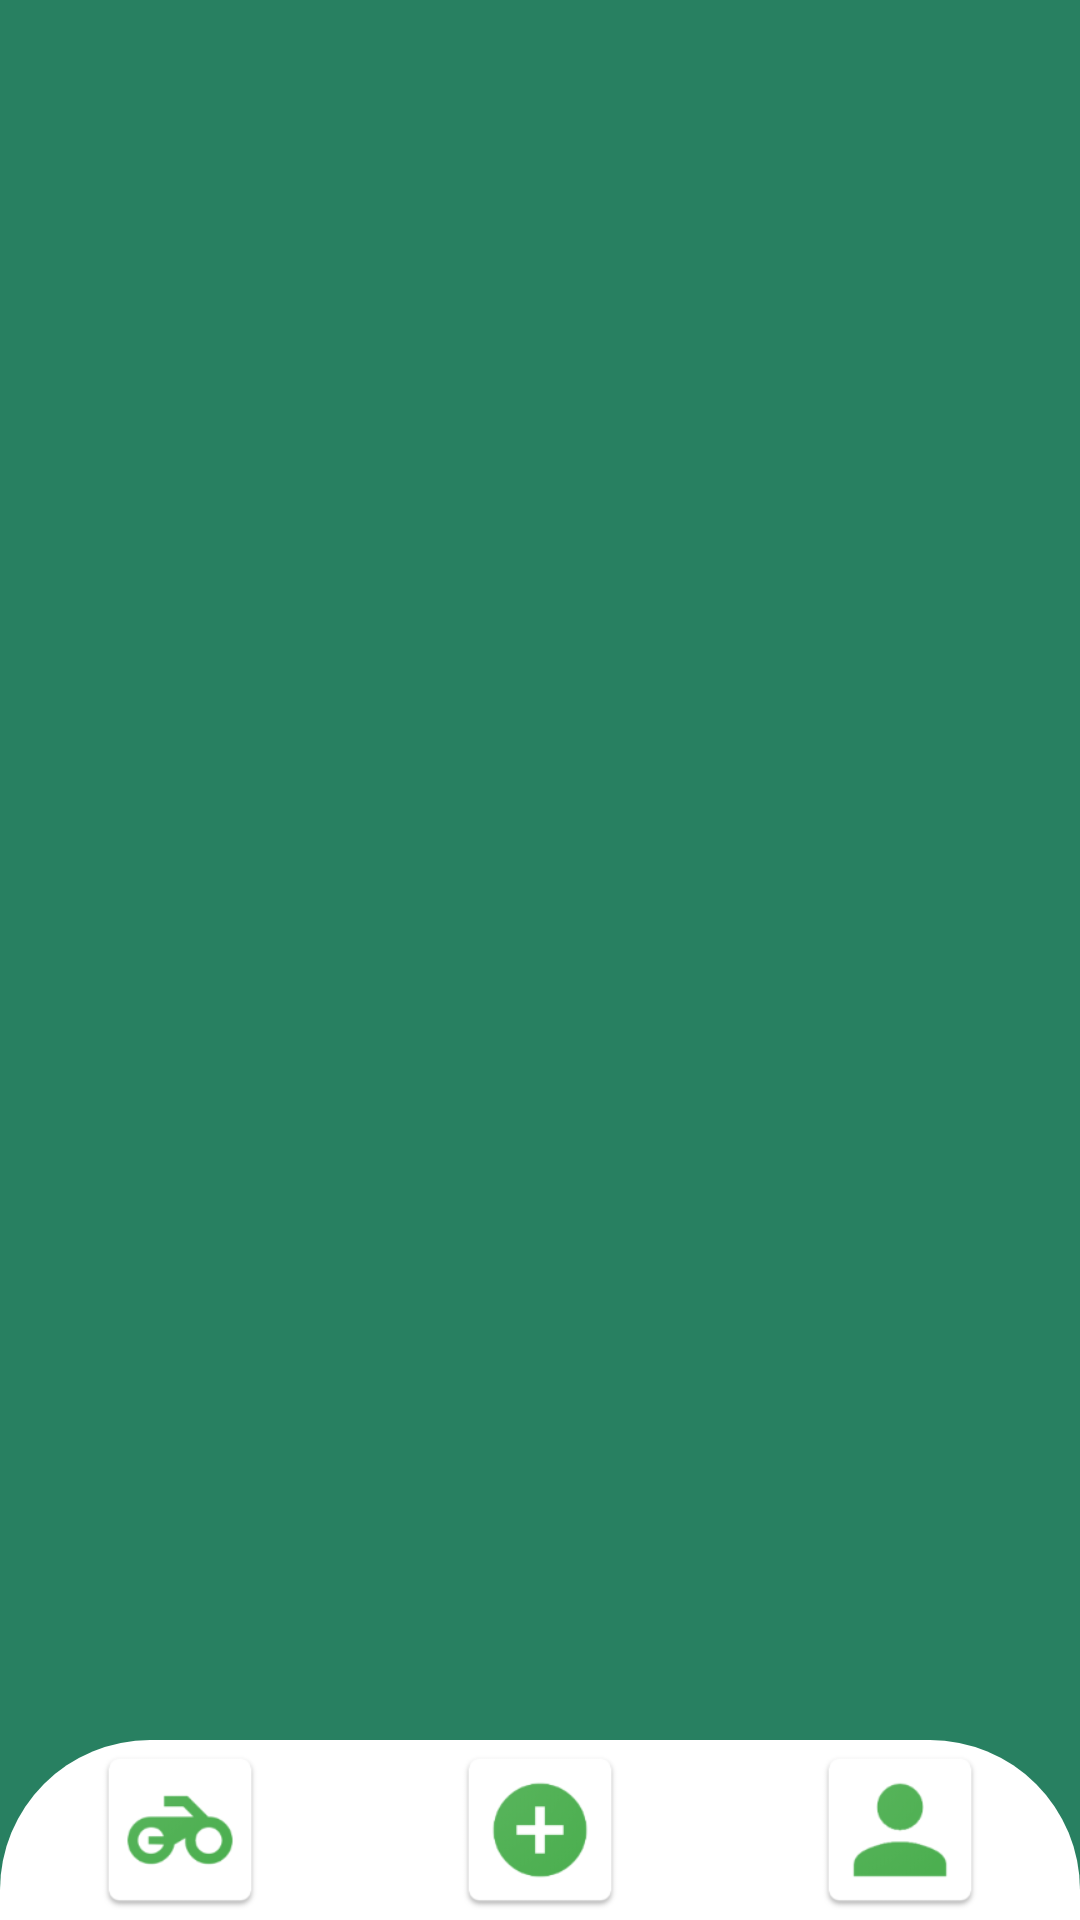

Screen size 1080px x 1920px. Icon name, then its center in pixels as [x,y]:
add: [540,1839]
